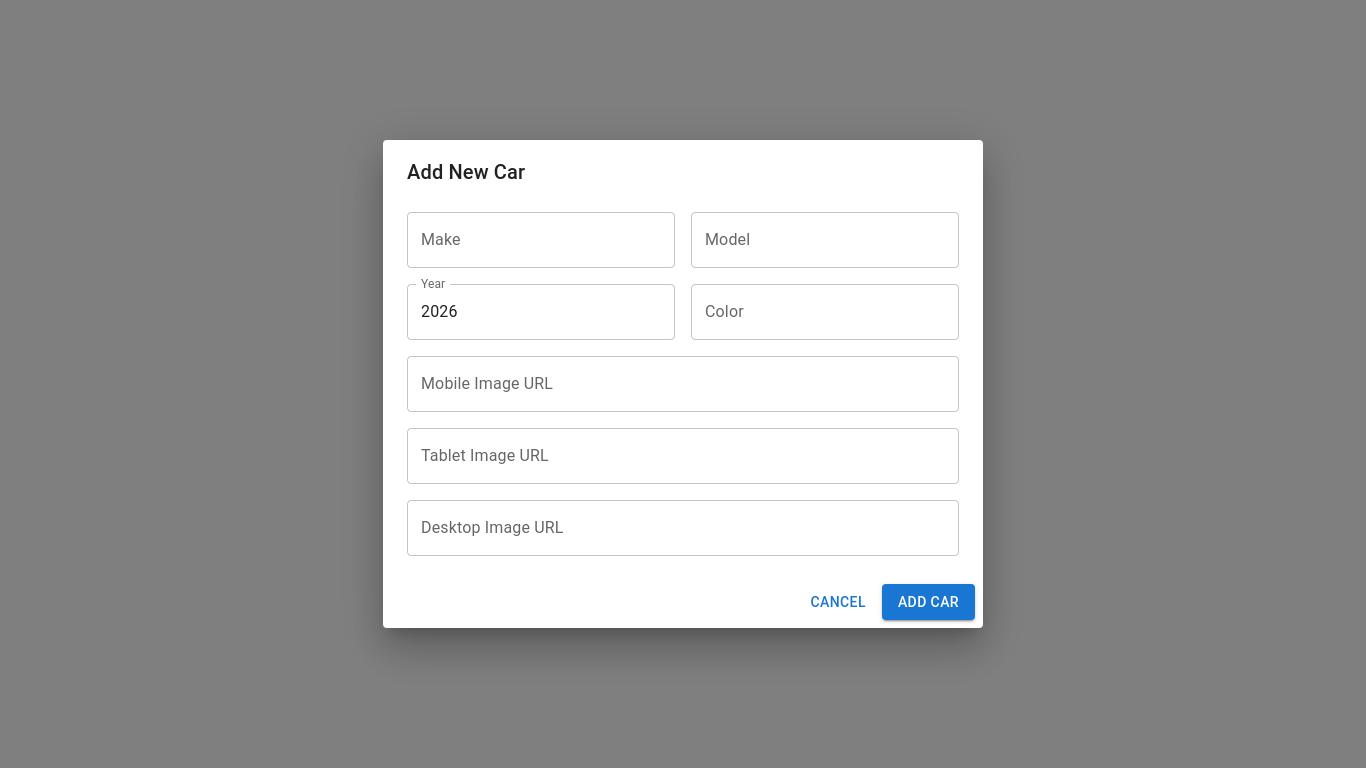
Scenario: AddCarForm › clears validation errors when user starts typing
First, trigger validation errors
Click the button "Add Car". click: (928, 602)
box: top-left (882, 584), bottom-right (975, 620)
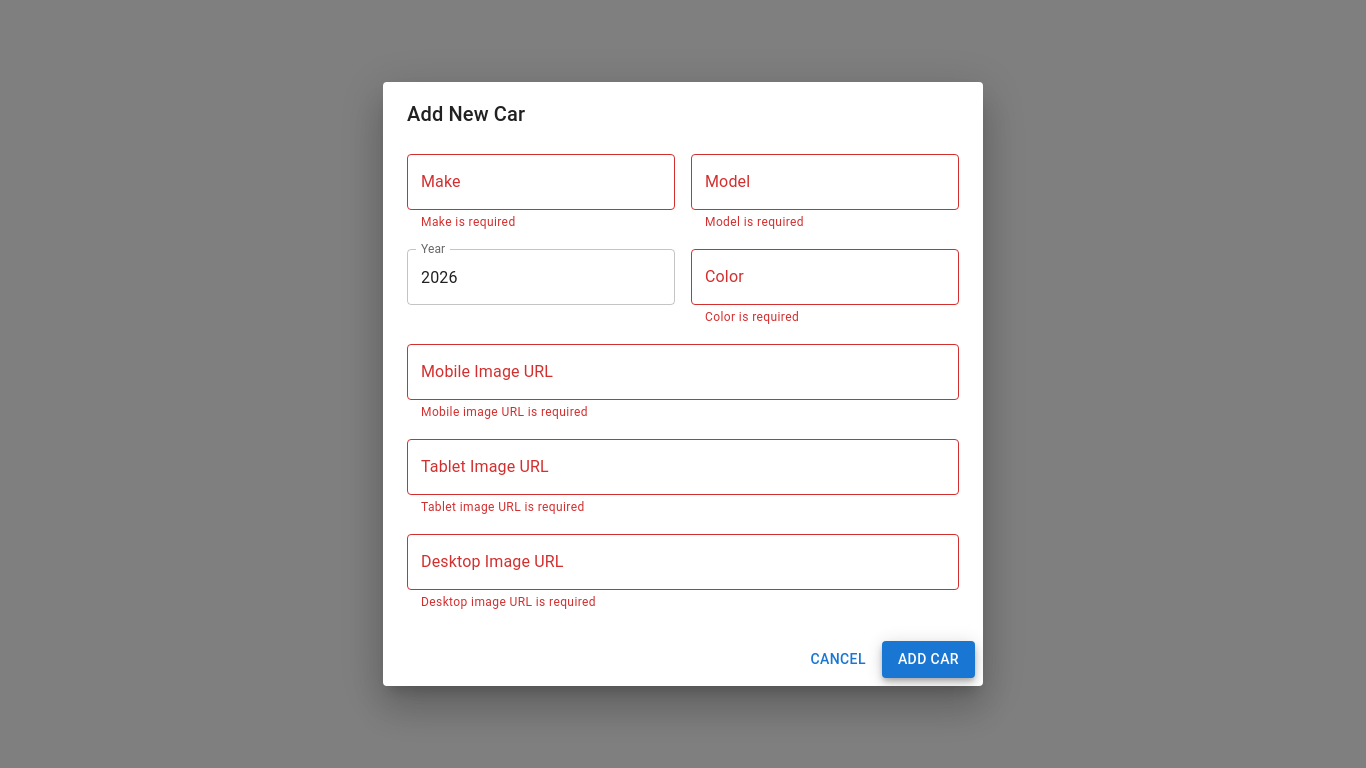
Now the text "Make is required" is shown, box top-left (421, 216), bottom-right (516, 230)
Then start typing in the make field
Type "T" into the field labelled "Make". click: (541, 182)
box: top-left (407, 154), bottom-right (675, 210)
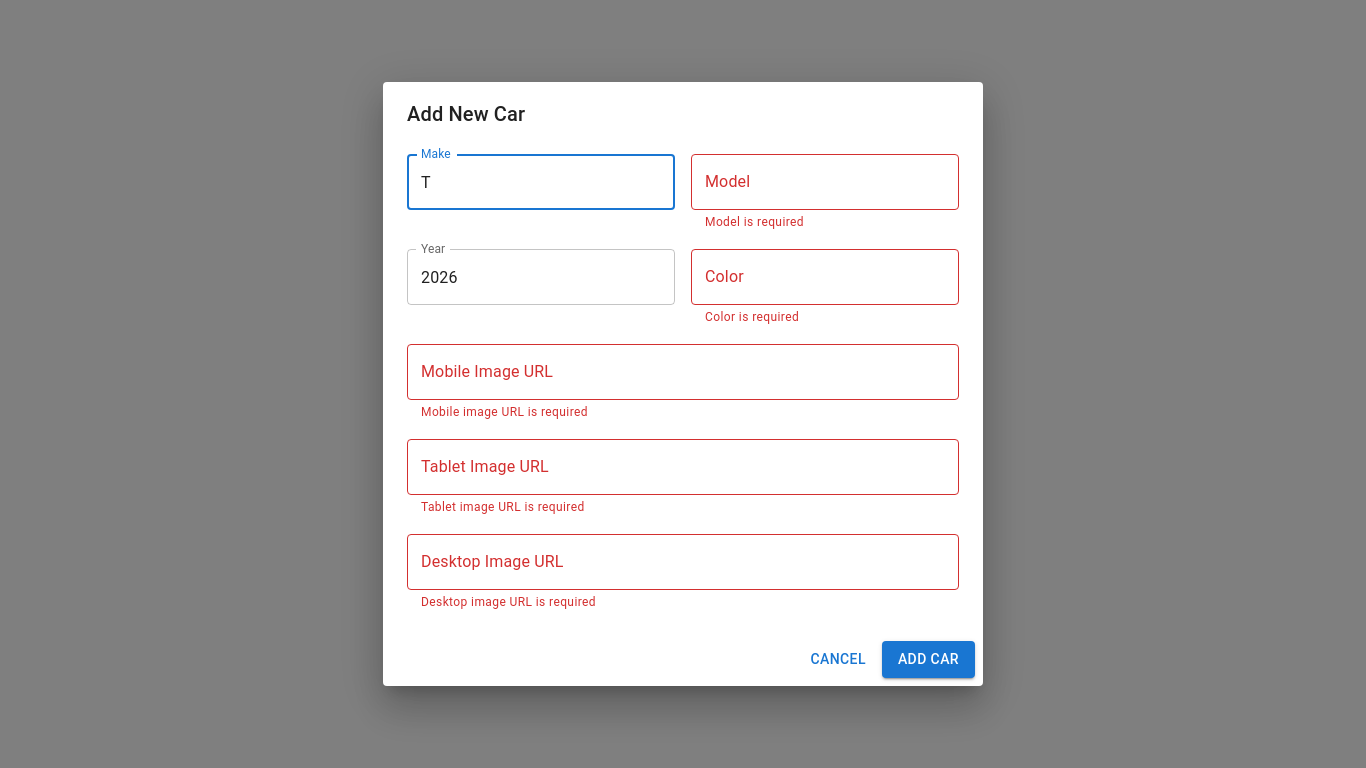
Now the text "Make is required" is gone
